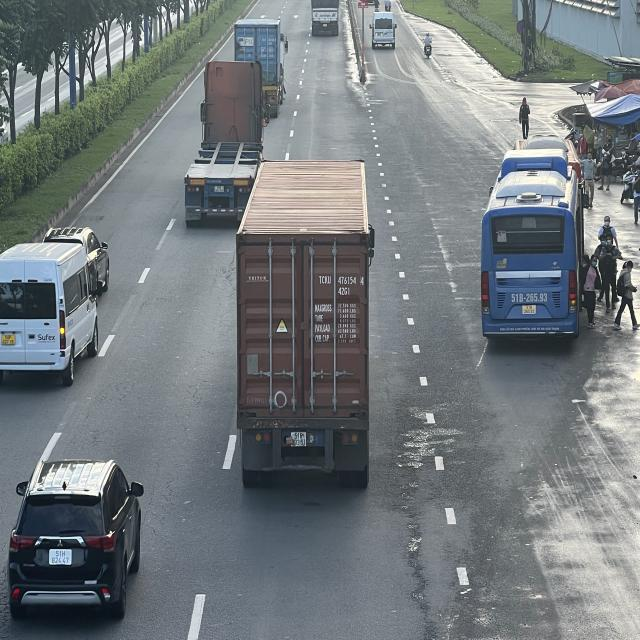car: (8, 462, 146, 618)
coach: (482, 152, 588, 340)
container: (236, 160, 370, 488), (184, 61, 266, 230), (234, 17, 288, 119)
truck: (310, 0, 340, 36)
van: (0, 242, 103, 382), (371, 12, 396, 50)
